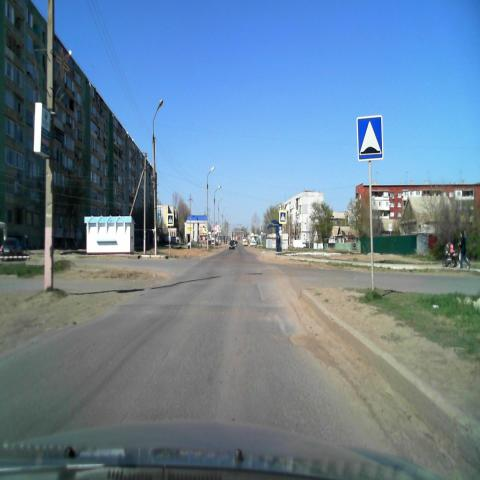5_19_1: (279, 211, 286, 224), (167, 213, 174, 226)
5_20: (358, 117, 382, 160)
